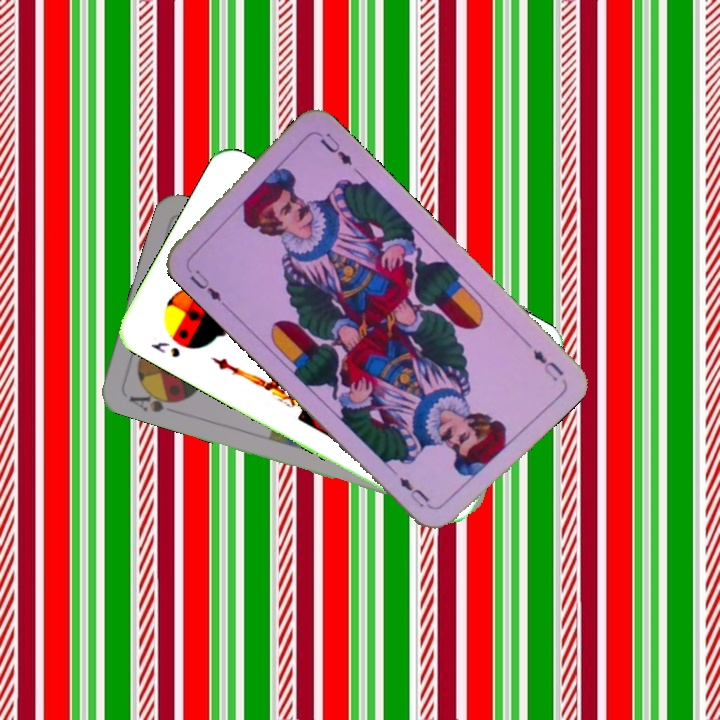EU: (185, 265, 224, 304), (528, 345, 567, 384)
SA: (125, 384, 183, 415)
SK: (147, 337, 183, 361)
